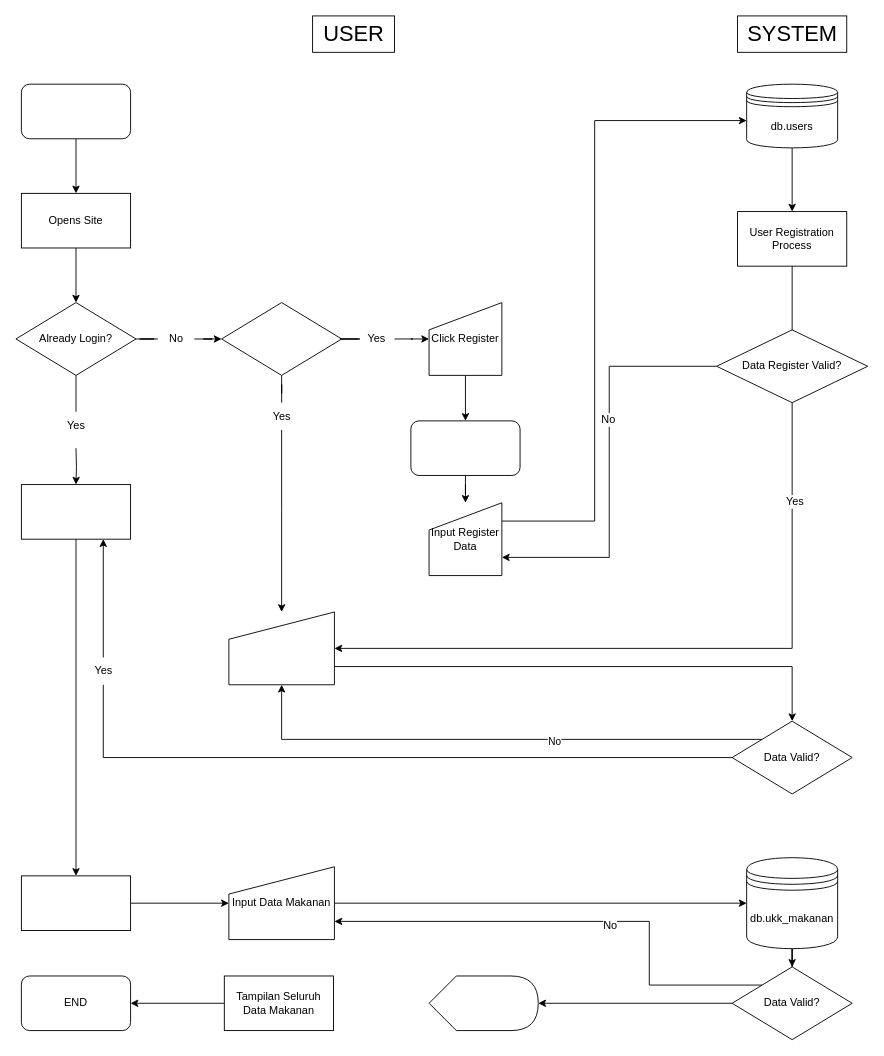
Image size: 884x1056. Some labels were removed from this diagram. Here are the shapes that lost their labels. From the top down, the centre of each, then its label:
At (x=75, y=111): "START".
At (x=281, y=338): "Have an Acount?".
At (x=465, y=447): "Register Form Page".
At (x=75, y=511): "Index Page".
At (x=281, y=648): "Insert Username & Passowrd".
At (x=75, y=902): "Manajemen Data Makanan".
At (x=483, y=1003): "Data ditambahkan".
